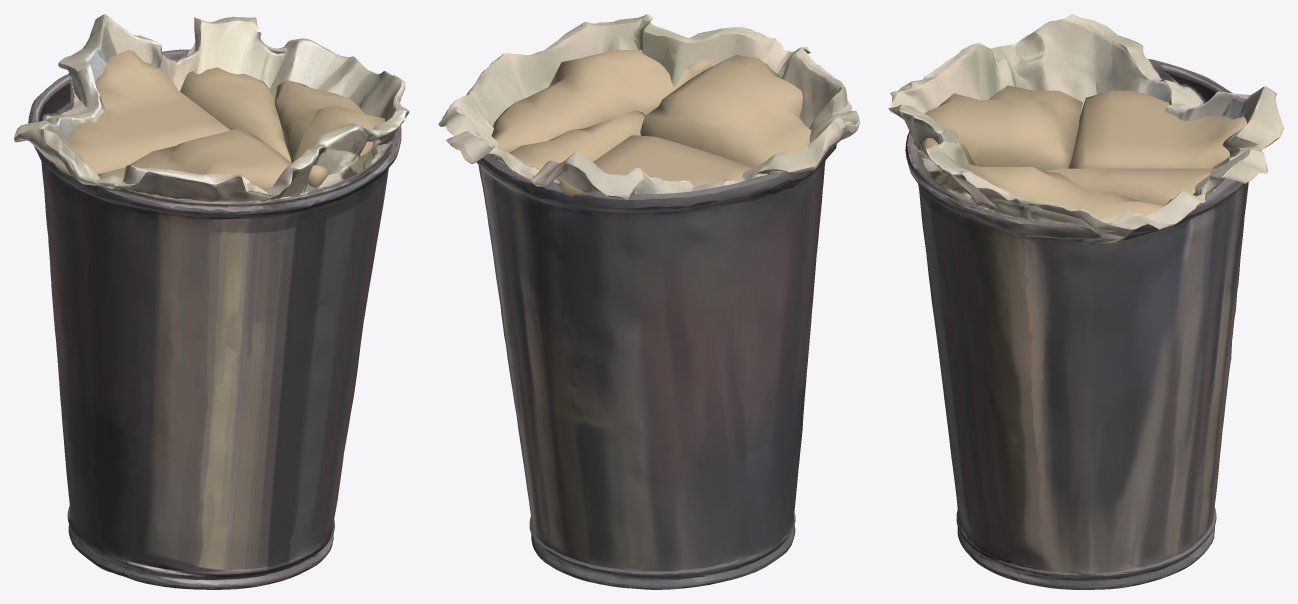
File: towel_bin_chunks.glb
3 views of the same model, side by side, from view 1: azimuth 30°, elevation 25°; view 2: azimuth 150°, elevation 25°; view 3: azimuth 270°, elevation 25° (orthographic). The views are drawn at different scales.
Visible parts, largest first — view 1: chunk4_shell, chunk2_shell, chunk5_shell, chunk0_shell, chunk1_shell, chunk5_core, chunk3_shell, chunk4_core, chunk3_core, chunk0_core; view 2: chunk5_shell, chunk1_shell, chunk4_core, chunk0_shell, chunk3_shell, chunk0_core, chunk4_shell, chunk5_core, chunk3_core; view 3: chunk2_shell, chunk1_shell, chunk0_shell, chunk4_shell, chunk5_core, chunk4_core, chunk5_shell, chunk3_shell, chunk0_core, chunk3_core.
Part boxes in pixels (bbox=[...]): chunk4_shell: bbox=[20, 128, 309, 441]; chunk2_shell: bbox=[109, 183, 386, 589]; chunk5_shell: bbox=[14, 14, 177, 447]; chunk0_shell: bbox=[260, 27, 409, 309]; chunk1_shell: bbox=[61, 410, 334, 589]; chunk5_core: bbox=[67, 49, 230, 174]; chunk3_shell: bbox=[162, 16, 314, 338]; chunk4_core: bbox=[98, 129, 291, 189]; chunk3_core: bbox=[180, 67, 291, 162]; chunk0_core: bbox=[274, 80, 385, 187]; chunk5_shell: bbox=[530, 146, 824, 462]; chunk1_shell: bbox=[501, 274, 802, 589]; chunk4_core: bbox=[640, 55, 811, 167]; chunk0_shell: bbox=[438, 14, 752, 228]; chunk3_shell: bbox=[446, 129, 583, 385]; chunk0_core: bbox=[491, 50, 712, 152]; chunk4_shell: bbox=[720, 30, 859, 342]; chunk5_core: bbox=[558, 135, 752, 196]; chunk3_core: bbox=[509, 110, 644, 169]; chunk2_shell: bbox=[930, 254, 1206, 578]; chunk1_shell: bbox=[1008, 300, 1232, 589]; chunk0_shell: bbox=[899, 108, 1210, 285]; chunk4_shell: bbox=[888, 14, 1105, 264]; chunk5_core: bbox=[1068, 90, 1246, 168]; chunk4_core: bbox=[925, 85, 1082, 171]; chunk5_shell: bbox=[1082, 25, 1283, 301]; chunk3_shell: bbox=[922, 149, 1267, 330]; chunk0_core: bbox=[919, 138, 1163, 218]; chunk3_core: bbox=[1044, 168, 1214, 206].
Bounding box in the file's own units: 0.6125 × 0.75 × 0.6.
1 material, 1 textured.
